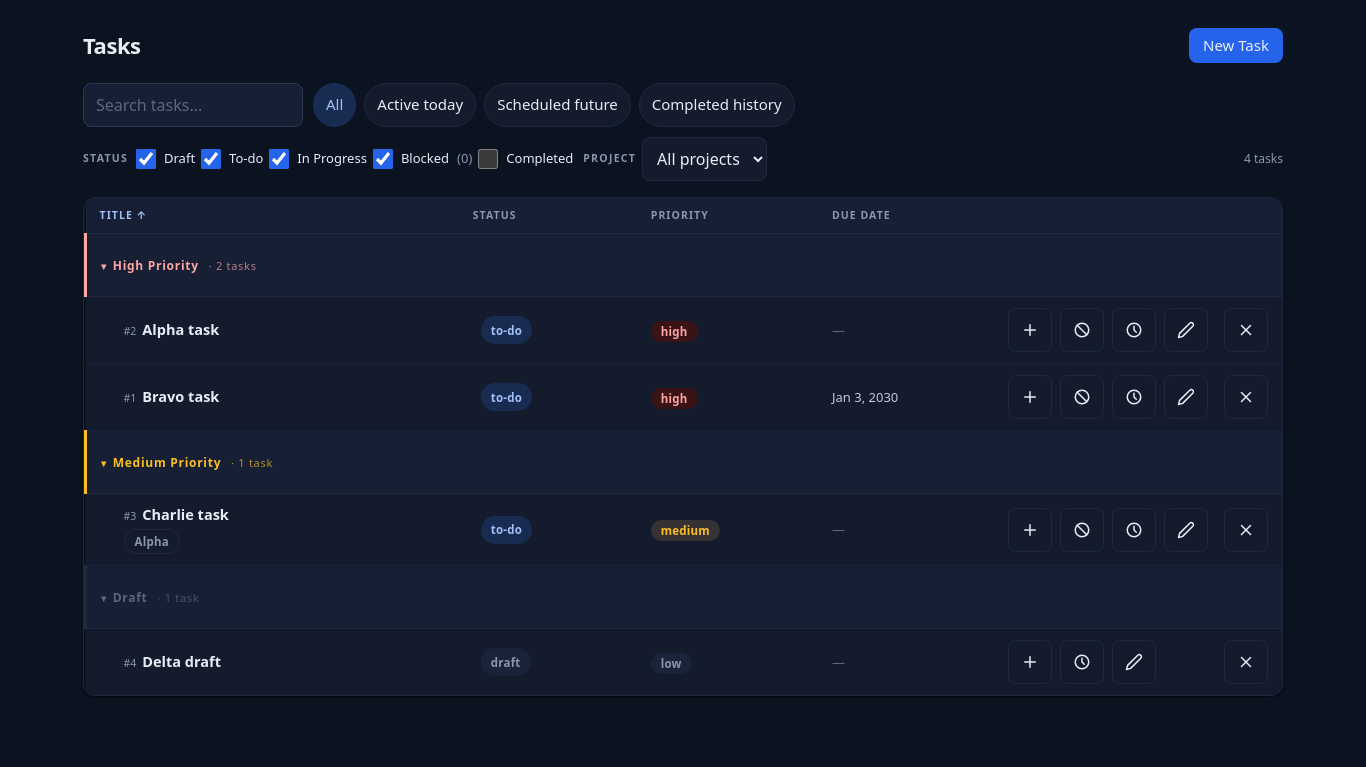
Test: TasksPage on mobile (#317) › edit and new panel (AC32-34) › does not scroll above 820px (AC33)
The image size is (1366, 767).
Click the button named "Edit" in the row of "Alpha task".
click(1186, 330)  # box 1164,308 -> 1208,352
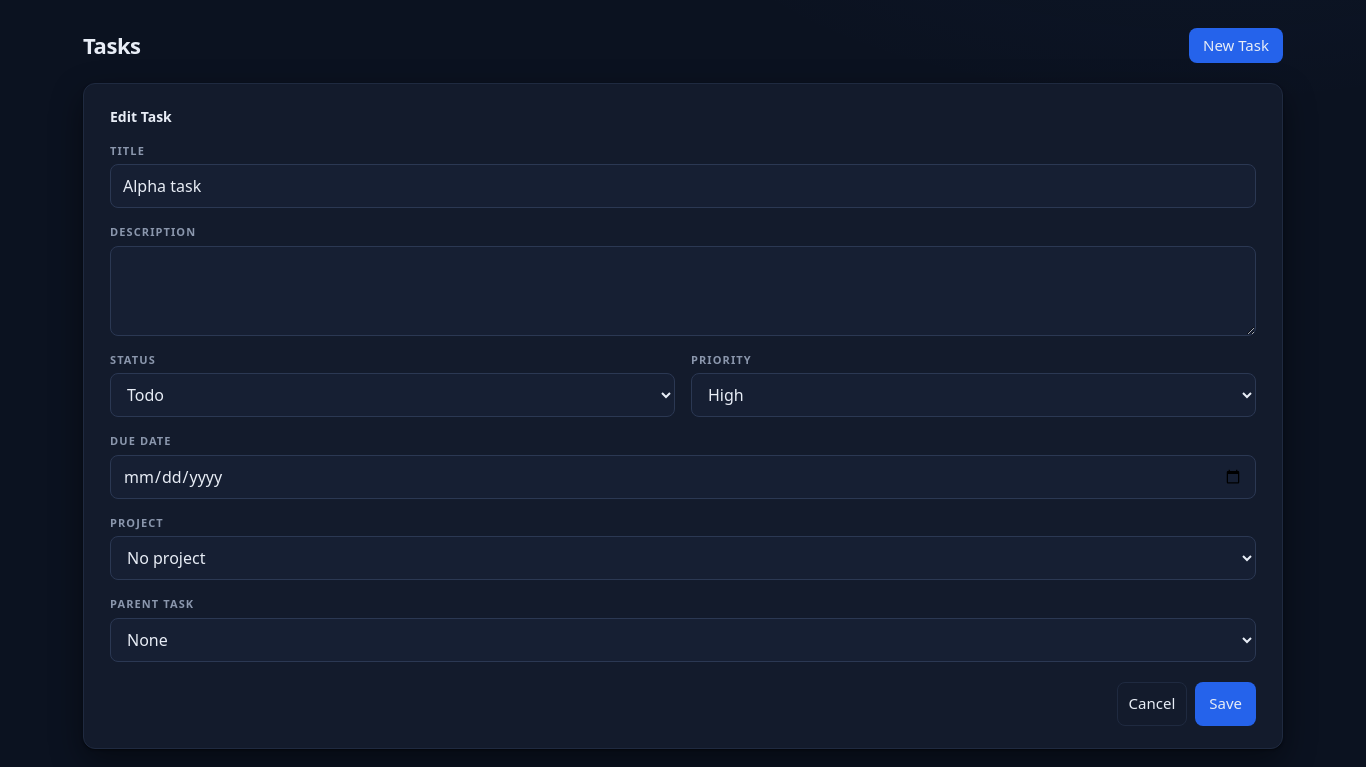
Now the heading "Edit Task" is shown, box 110,106 -> 172,126
